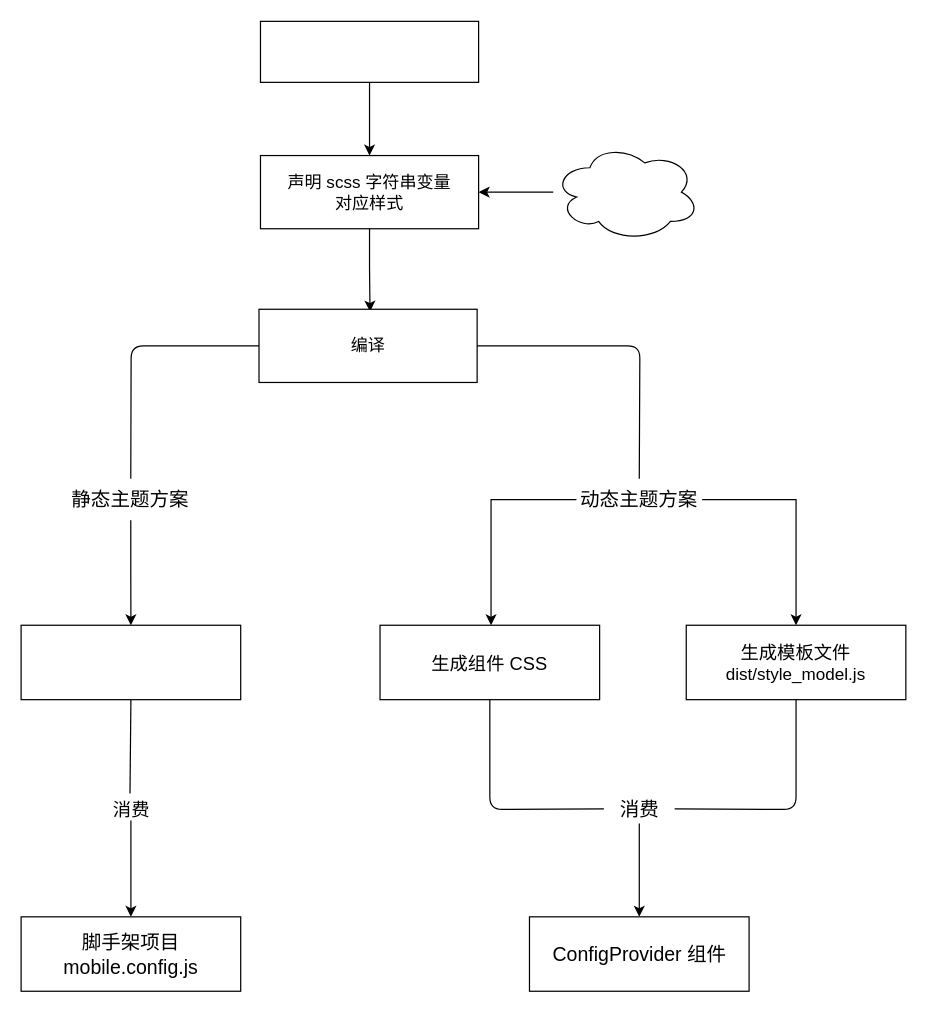
Image size: 928x1013. Some labels were removed from this diagram. Each missing label, with the centre of its shape:
主题色样式: the point at 626,191
声明 scss 字符串变量 _base.scss: the point at 369,51
生成组件 SCSS: the point at 130,662
